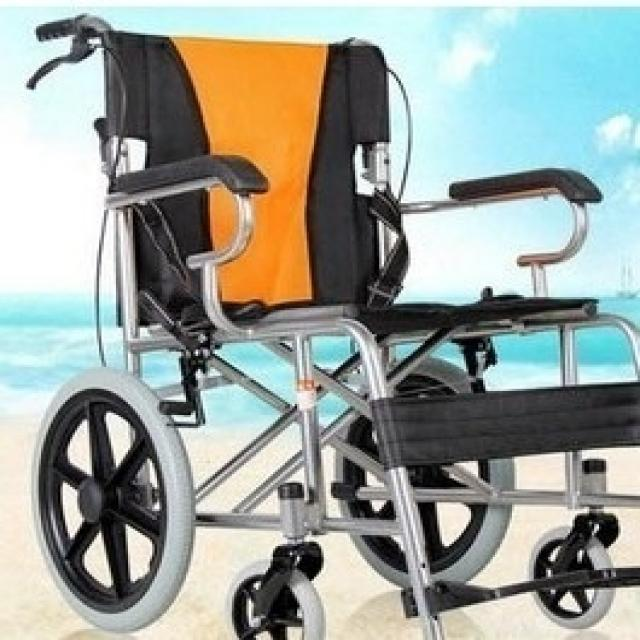wheelchair: (21, 7, 640, 639)
